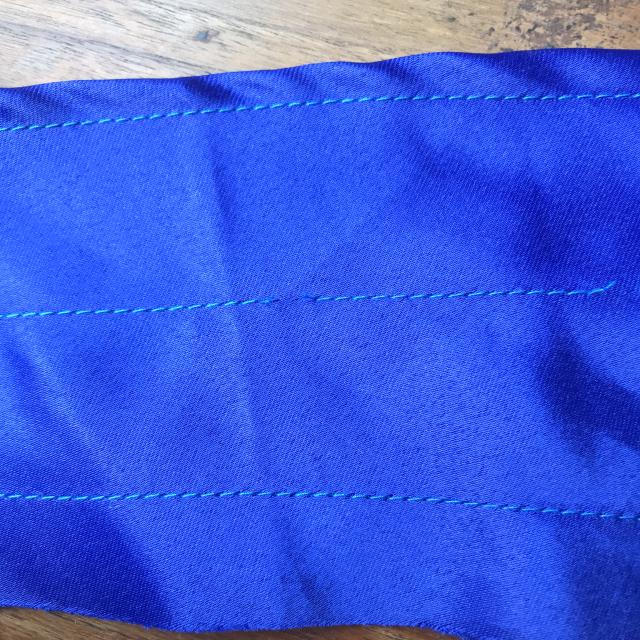broken: (227, 280, 343, 326)
good: (202, 480, 439, 521)
